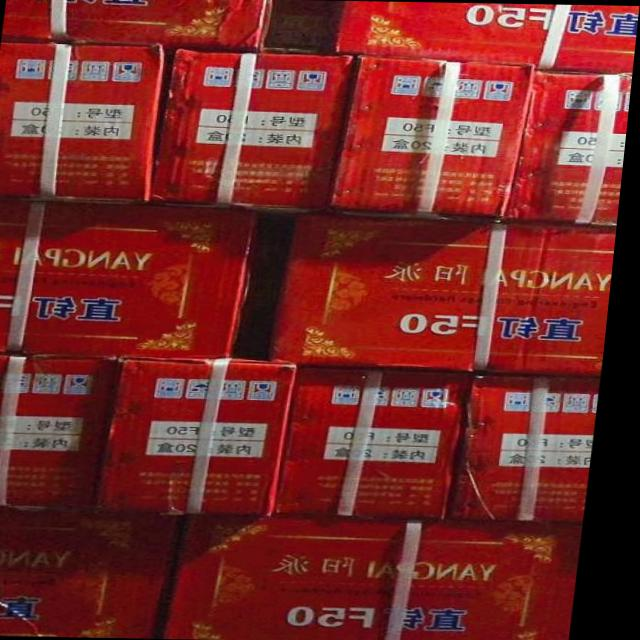box: (277, 212, 621, 374), (176, 515, 594, 640), (0, 201, 261, 357), (335, 57, 534, 221), (156, 49, 356, 212), (109, 356, 304, 515), (285, 365, 478, 519), (0, 41, 166, 203), (0, 509, 189, 638), (333, 0, 640, 72), (461, 374, 608, 521), (0, 352, 125, 510), (509, 71, 634, 227), (2, 0, 273, 53)
